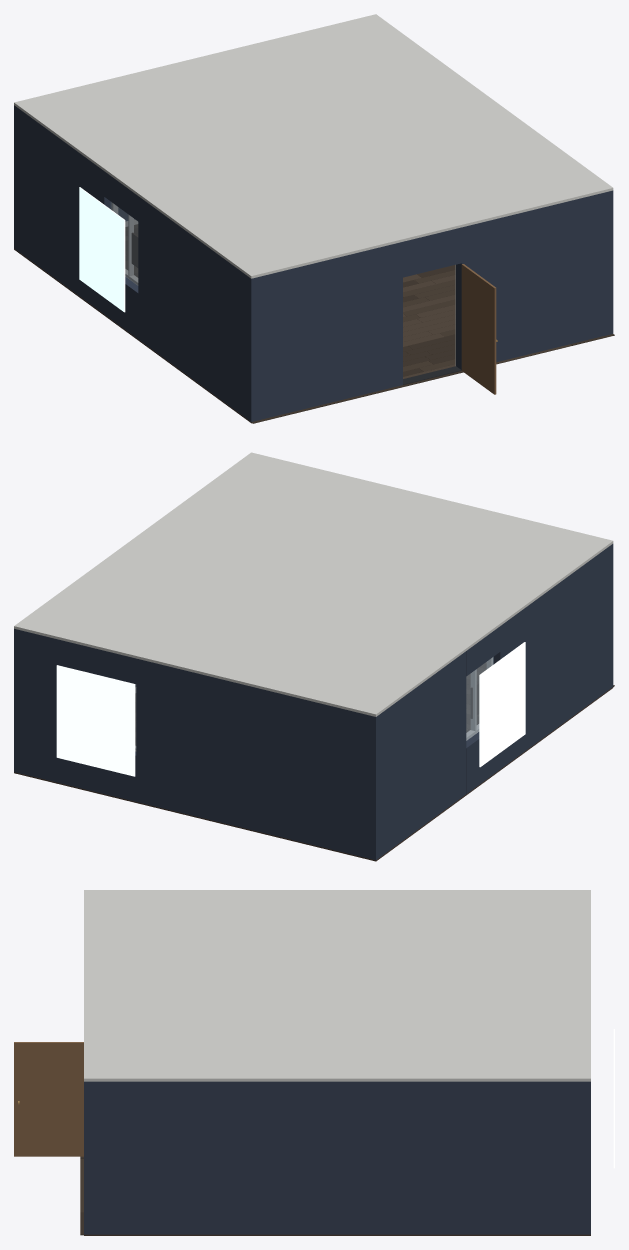
The model's file is residence.glb.
3 views of the same model, one above another, from view 1: azimuth 30°, elevation 25°; view 2: azimuth 150°, elevation 25°; view 3: azimuth 270°, elevation 25° (orthographic). The views are drawn at different scales.
Parts seen in each view (by area): view 1: residence_room; view 2: residence_room; view 3: residence_room.
Part boxes in pixels (x1=…): residence_room: x1=14, y1=14, x2=614, y2=423; residence_room: x1=14, y1=452, x2=614, y2=861; residence_room: x1=14, y1=890, x2=614, y2=1235.
Size of the model in its own units: 7.8 by 2.87 by 9.96.
